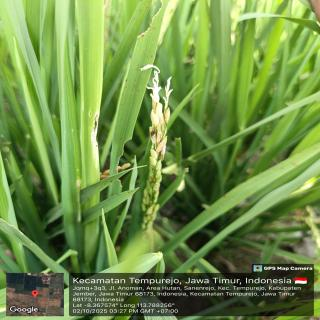Busuk-Bulir: (156, 138, 165, 153), (161, 145, 166, 161), (149, 127, 154, 137)
